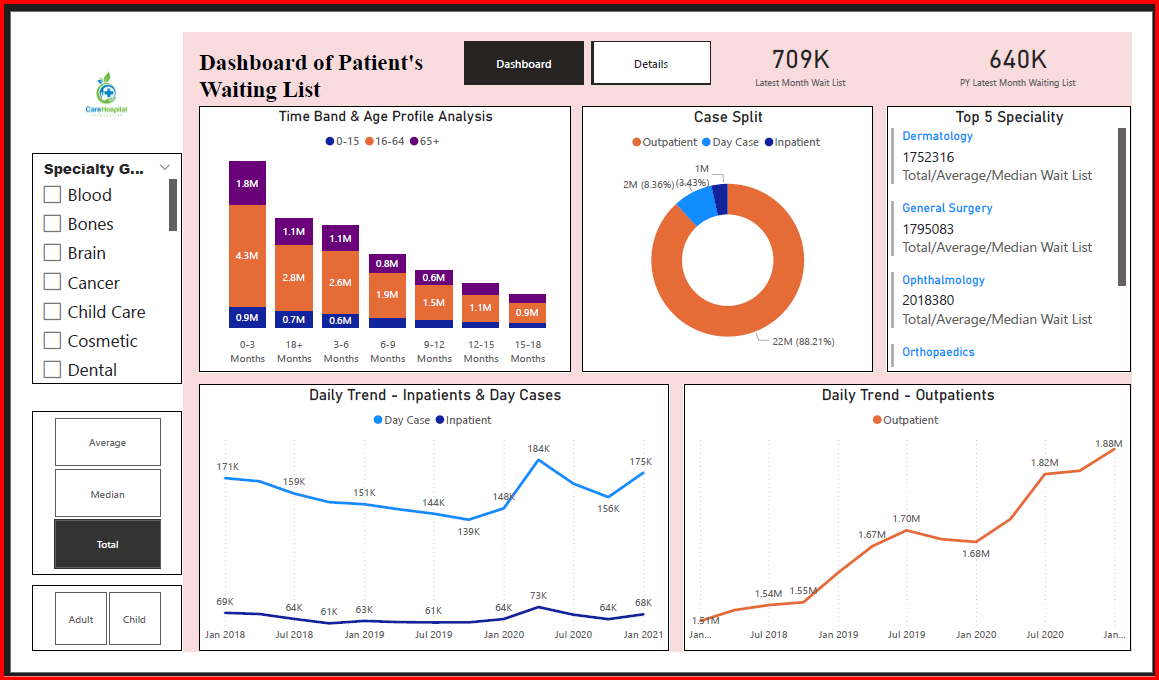

Layout of this report page (visuals, bound fields, positions):
{"tool":"powerbi","page":{"name":"Dashboard","canvas":[1280,720],"ordinal":0},"visuals":[{"type":"shape","box":[0,0,175.3,720.5],"z":0},{"type":"columnChart","title":"Time Band & Age Profile Analysis","fields":{"Y":["Measure_Table.Filter Selection"],"Category":["All data.Time_Bands"],"Series":["All data.Age_Profile"]},"box":[194.7,85.7,432.3,309.6],"z":1000},{"type":"slicer","fields":{"Values":["Calculation Method.cal_method"]},"box":[0,440.1,175.3,190.8],"z":2000},{"type":"donutChart","title":"Case Split","fields":{"Category":["All data.Case_Type"],"Y":["Measure_Table.Filter Selection"]},"box":[640.6,85.7,338.8,309.6],"z":3000},{"type":"card","fields":{"Values":["Measure_Table.PY Latest Month Waiting List"]},"box":[1020.4,0,255.1,70.1],"z":4000},{"type":"card","fields":{"Values":["Measure_Table.Latest Month Wait List"]},"box":[759.4,0,270.7,70.1],"z":5000},{"type":"lineChart","title":"Daily Trend - Inpatients & Day Cases","fields":{"Y":["Measure_Table.Filter Selection"],"Category":["All data.Archive_Date.Variation.Date Hierarchy.Year","All data.Archive_Date.Variation.Date Hierarchy.Quarter","All data.Archive_Date.Variation.Date Hierarchy.Month","All data.Archive_Date.Variation.Date Hierarchy.Day"],"Series":["All data.Case_Type"]},"box":[194.7,408.9,547.2,311.6],"z":6000},{"type":"lineChart","title":"Daily Trend - Outpatients","fields":{"Y":["Measure_Table.Filter Selection"],"Category":["All data.Archive_Date.Variation.Date Hierarchy.Year","All data.Archive_Date.Variation.Date Hierarchy.Quarter","All data.Archive_Date.Variation.Date Hierarchy.Month","All data.Archive_Date.Variation.Date Hierarchy.Day"],"Series":["All data.Case_Type"]},"box":[759.4,408.9,519.9,311.6],"z":7000},{"type":"multiRowCard","title":"Top 5 Speciality","fields":{"Values":["All data.Specialty_Name","Measure_Table.Filter Selection"]},"box":[995.1,85.7,284.3,309.6],"z":8000},{"type":"image","box":[0,0,175.3,140.2],"z":9000},{"type":"slicer","fields":{"Values":["All data.Adult_Child"]},"box":[0,642.6,175.3,77.9],"z":10000},{"type":"slicer","fields":{"Values":["Mapping_Specialty.Specialty Group"]},"box":[0,140.2,175.3,268.7],"z":11000},{"type":"shape","box":[194.7,15.6,309.6,70.1],"z":11001},{"type":"pageNavigator","box":[504.3,9.7,286.2,50.6],"z":11002}]}

Visuals, with their boxes on the page's 1280x720 design canvas (x1, y1, x2, y2). These are canvas units, not pixel positions in the 1159x680 screenshot, which may show the page scaled, cropped or inside an application window:
shape: (left=0, top=0, right=175, bottom=720)
"Time Band & Age Profile Analysis" columnChart: (left=195, top=86, right=627, bottom=395)
slicer - Calculation Method.cal_method: (left=0, top=440, right=175, bottom=631)
"Case Split" donutChart: (left=641, top=86, right=979, bottom=395)
card - Measure_Table.PY Latest Month Waiting List: (left=1020, top=0, right=1276, bottom=70)
card - Measure_Table.Latest Month Wait List: (left=759, top=0, right=1030, bottom=70)
"Daily Trend - Inpatients & Day Cases" lineChart: (left=195, top=409, right=742, bottom=720)
"Daily Trend - Outpatients" lineChart: (left=759, top=409, right=1279, bottom=720)
"Top 5 Speciality" multiRowCard: (left=995, top=86, right=1279, bottom=395)
image: (left=0, top=0, right=175, bottom=140)
slicer - All data.Adult_Child: (left=0, top=643, right=175, bottom=720)
slicer - Mapping_Specialty.Specialty Group: (left=0, top=140, right=175, bottom=409)
shape: (left=195, top=16, right=504, bottom=86)
pageNavigator: (left=504, top=10, right=790, bottom=60)
